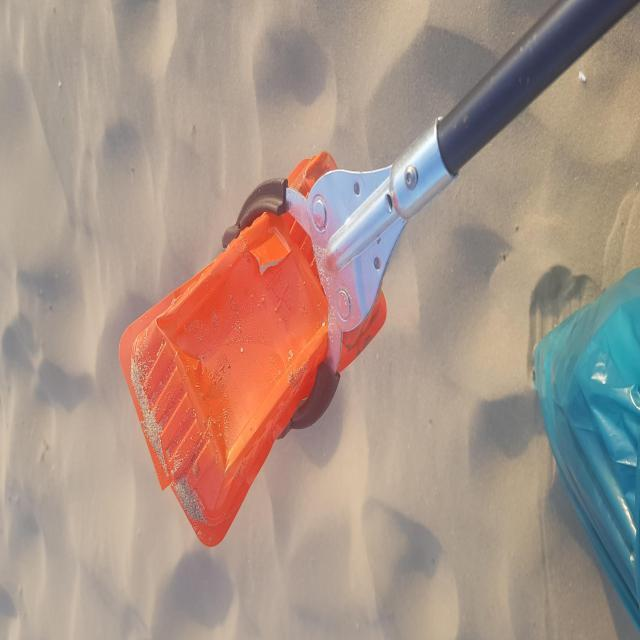Plastic: (118, 146, 388, 548)
